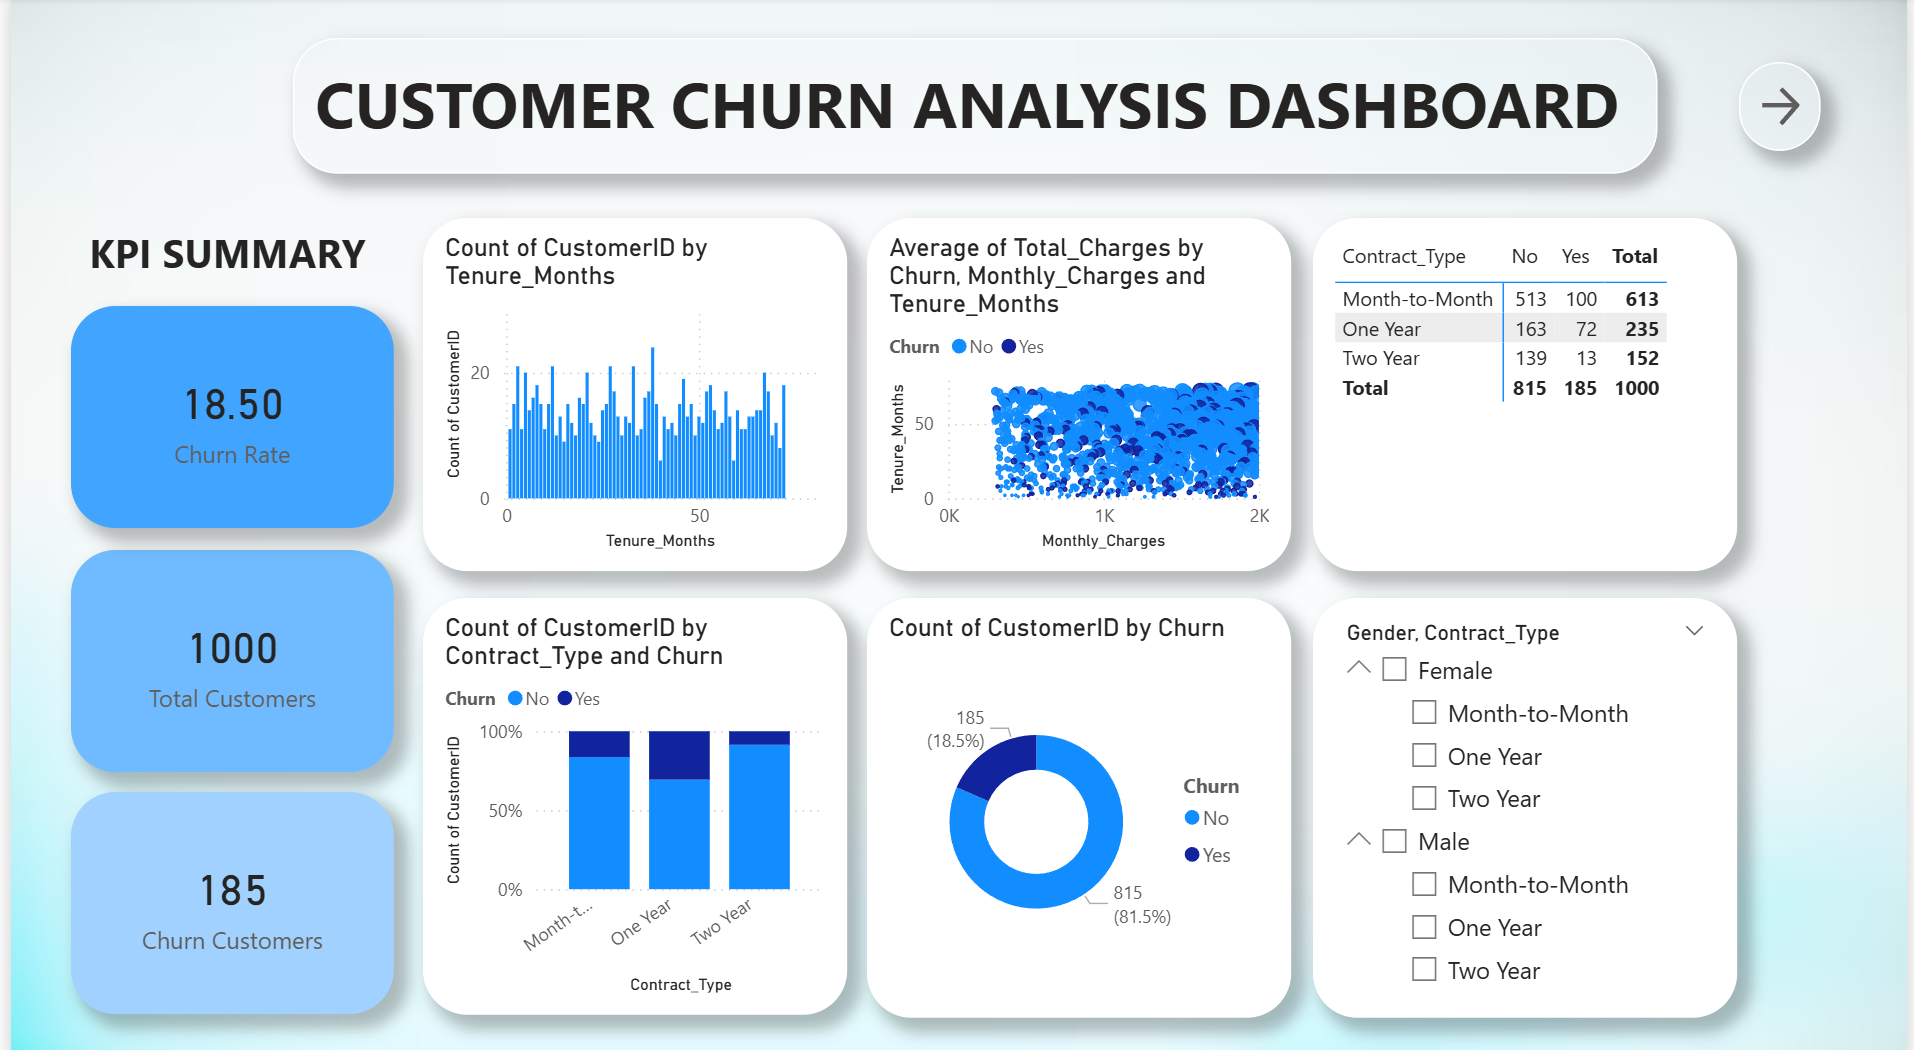

The page's visual inventory and layout, read from the dashboard file:
{"tool":"powerbi","page":{"name":"Customer Churn Dashboard","canvas":[1280,720],"ordinal":0},"visuals":[{"type":"textbox","box":[190,28.3,921.7,91.7],"z":0},{"type":"card","fields":{"Values":["Customer_Churn_Data.Total Customers"]},"box":[40,374,218,150],"z":1000},{"type":"card","fields":{"Values":["Customer_Churn_Data.Churn Customers"]},"box":[40,538,218,150],"z":2000},{"type":"card","fields":{"Values":["Customer_Churn_Data.Churn Rate"]},"box":[40,210,218,150],"z":3000},{"type":"textbox","box":[42,150,216,50],"z":4000},{"type":"clusteredColumnChart","fields":{"Category":["Customer_Churn_Data.Tenure_Months"],"Y":["CountNonNull(Customer_Churn_Data.CustomerID)"]},"box":[278.3,150,286.7,238.3],"z":5000},{"type":"hundredPercentStackedColumnChart","fields":{"Category":["Customer_Churn_Data.Contract_Type"],"Y":["CountNonNull(Customer_Churn_Data.CustomerID)"],"Series":["Customer_Churn_Data.Churn"]},"box":[278.3,406.7,286.7,281.7],"z":6000},{"type":"scatterChart","fields":{"Y":["Customer_Churn_Data.Tenure_Months"],"Series":["Customer_Churn_Data.Churn"],"Size":["Avg(Customer_Churn_Data.Total_Charges)"],"X":["Customer_Churn_Data.Monthly_Charges"]},"box":[578.3,150,286.7,238.3],"z":7000},{"type":"donutChart","fields":{"Category":["Customer_Churn_Data.Churn"],"Y":["CountNonNull(Customer_Churn_Data.CustomerID)"]},"box":[578.3,406.7,286.7,283.3],"z":8000},{"type":"pivotTable","fields":{"Rows":["Customer_Churn_Data.Contract_Type"],"Columns":["Customer_Churn_Data.Churn"],"Values":["CountNonNull(Customer_Churn_Data.CustomerID)"]},"box":[880,150,286.7,238.3],"z":9000},{"type":"slicer","fields":{"Values":["Customer_Churn_Data.Gender","Customer_Churn_Data.Contract_Type"]},"box":[880,406.7,286.7,283.3],"z":10000},{"type":"actionButton","box":[1166.7,45,55,60],"z":11000}]}

Visuals, with their boxes in screenshot pixels (x1, y1, x2, y2), scaled from the page's 1280x720 canvas onto the 1914x1050 screenshot:
textbox: 284, 41, 1662, 175
card - Customer_Churn_Data.Total Customers: 60, 545, 386, 764
card - Customer_Churn_Data.Churn Customers: 60, 785, 386, 1003
card - Customer_Churn_Data.Churn Rate: 60, 306, 386, 525
textbox: 63, 219, 386, 292
clusteredColumnChart - Customer_Churn_Data.Tenure_Months x CountNonNull(Customer_Churn_Data.CustomerID): 416, 219, 845, 566
hundredPercentStackedColumnChart - Customer_Churn_Data.Contract_Type x CountNonNull(Customer_Churn_Data.CustomerID): 416, 593, 845, 1004
scatterChart - Customer_Churn_Data.Tenure_Months x Customer_Churn_Data.Churn: 865, 219, 1293, 566
donutChart - Customer_Churn_Data.Churn x CountNonNull(Customer_Churn_Data.CustomerID): 865, 593, 1293, 1006
pivotTable - Customer_Churn_Data.Contract_Type x Customer_Churn_Data.Churn: 1316, 219, 1745, 566
slicer - Customer_Churn_Data.Gender x Customer_Churn_Data.Contract_Type: 1316, 593, 1745, 1006
actionButton: 1745, 66, 1827, 153
